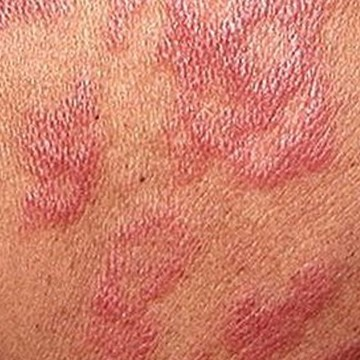Leprosy: (99, 0, 350, 185), (211, 247, 351, 359), (18, 67, 97, 227), (89, 207, 196, 320), (0, 0, 75, 34)
